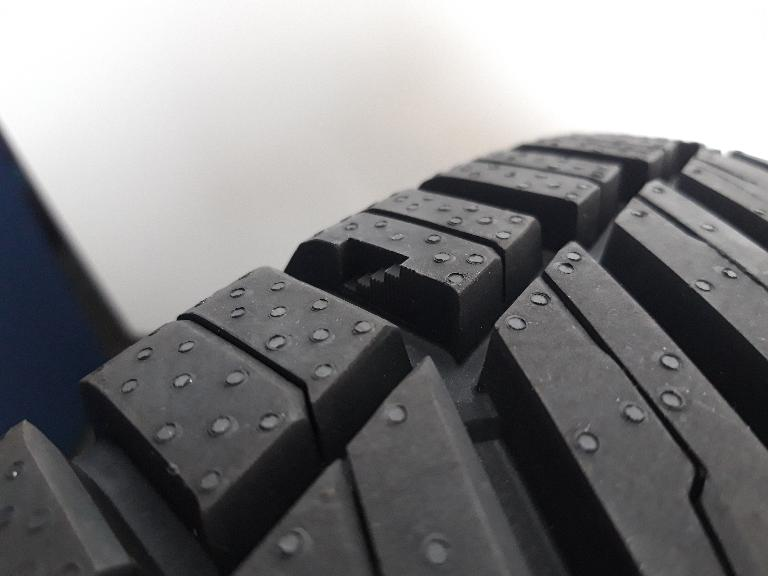temoin:100: (336, 236, 418, 330)
